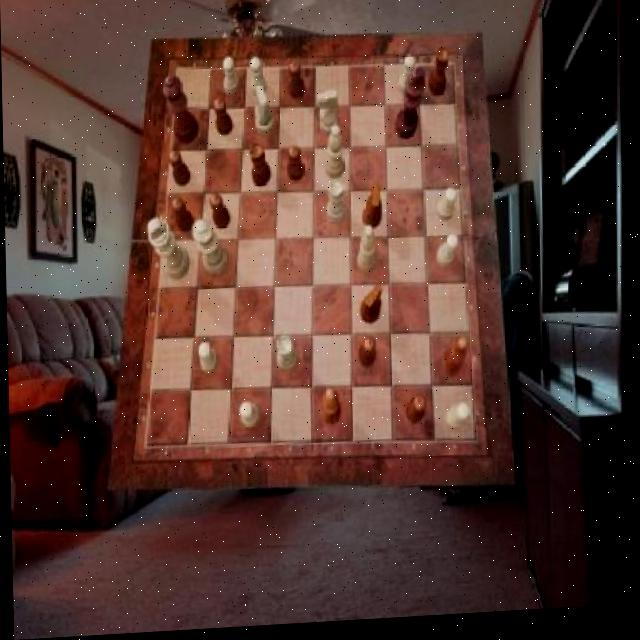bishop: (439, 343, 467, 384), (318, 391, 339, 429)
black-bishop: (394, 72, 428, 146)
black-king: (359, 288, 383, 330), (361, 187, 381, 234)
black-knight: (168, 150, 191, 189), (170, 199, 193, 235), (213, 100, 233, 139), (208, 196, 230, 231), (287, 64, 305, 103), (286, 149, 303, 186), (357, 340, 375, 373), (404, 401, 425, 429)
black-pawn: (163, 77, 199, 148)
black-queen: (427, 52, 451, 102), (249, 144, 271, 191)
black-rook: (324, 129, 344, 184), (355, 231, 375, 279)
white-bishop: (145, 219, 189, 284)
white-king: (254, 87, 275, 139), (317, 94, 338, 140)
white-knight: (435, 238, 458, 273), (434, 193, 456, 228), (397, 61, 415, 102), (444, 408, 469, 436), (249, 60, 266, 101), (197, 344, 218, 377), (222, 60, 239, 99), (238, 404, 259, 431)
white-pawn: (190, 219, 227, 278)
white-queen: (325, 183, 346, 228), (274, 337, 297, 376)
